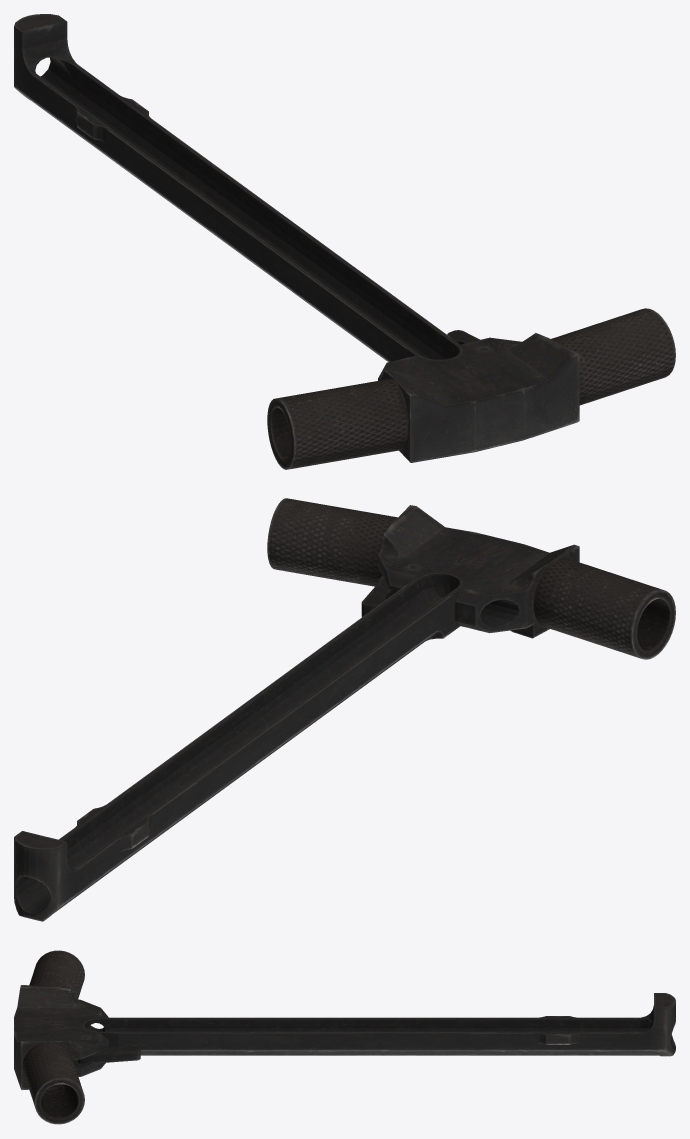
The picture shows the model from 3 angles, top to bottom: view 1: azimuth 30°, elevation 25°; view 2: azimuth 150°, elevation 25°; view 3: azimuth 270°, elevation 25°; orthographic projection. The views are drawn at different scales.
Parts seen in each view (by area): view 1: TW_6033749e88382f4fab3fd2c5_PZ_Import; view 2: TW_6033749e88382f4fab3fd2c5_PZ_Import; view 3: TW_6033749e88382f4fab3fd2c5_PZ_Import.
Boxes of the visible parts, left/top/right/bottom form: TW_6033749e88382f4fab3fd2c5_PZ_Import: left=14, top=14, right=675, bottom=469; TW_6033749e88382f4fab3fd2c5_PZ_Import: left=14, top=498, right=675, bottom=921; TW_6033749e88382f4fab3fd2c5_PZ_Import: left=14, top=950, right=675, bottom=1124.
Size of the model in its own units: 0.0463 by 0.099 by 0.0101.
Materials: 1 (1 with a texture image).
